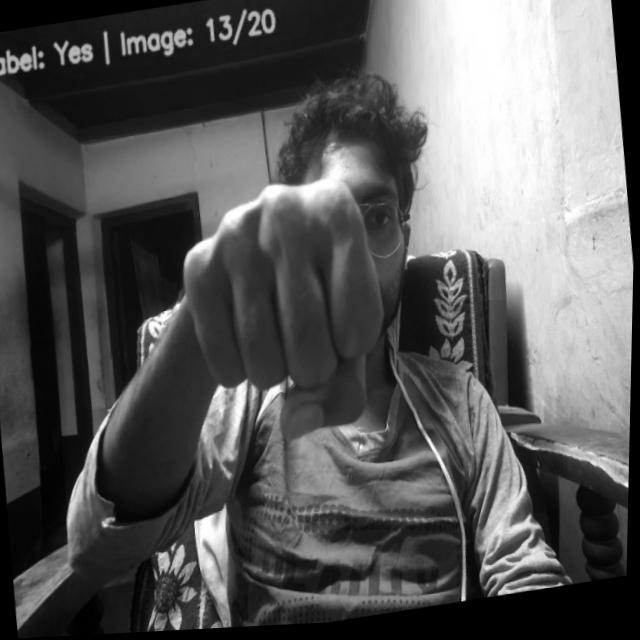Yes: (175, 169, 393, 461)
